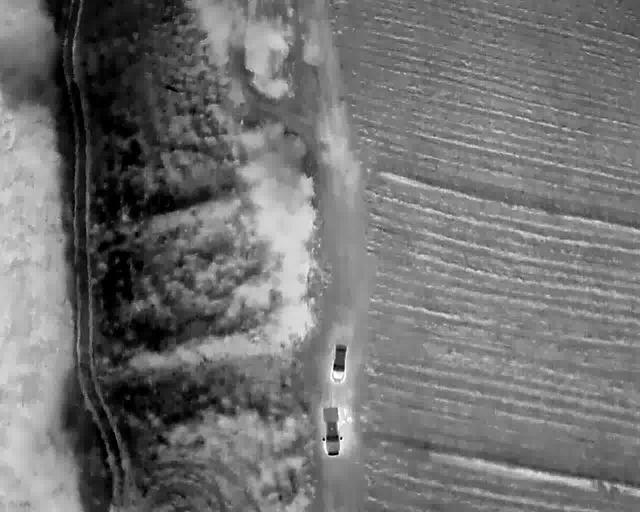car: (323, 0, 338, 13)
person: (358, 192, 364, 203)
